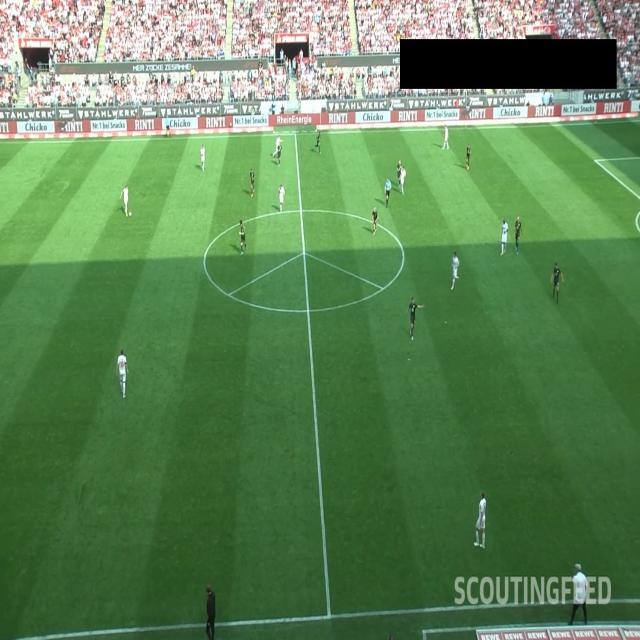ball: (128, 211, 132, 217)
